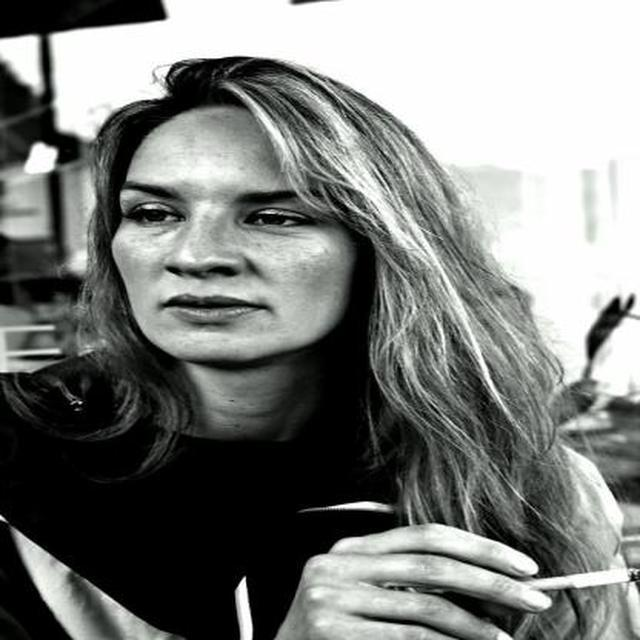smoking: (496, 558, 638, 606)
